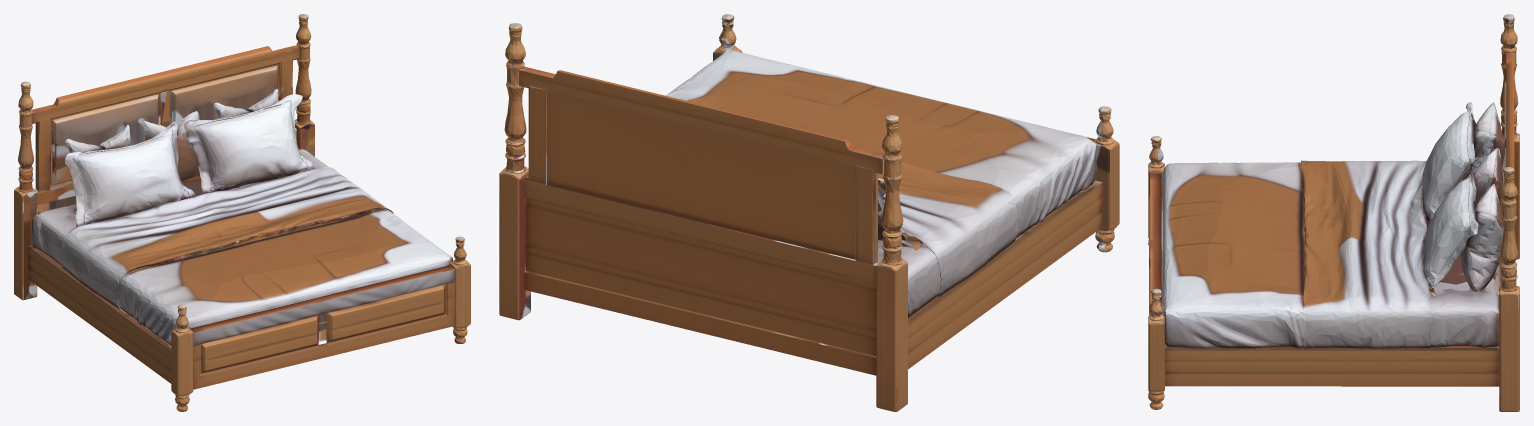
File: edited_mesh.glb
3 views of the same model, side by side, from view 1: azimuth 30°, elevation 25°; view 2: azimuth 150°, elevation 25°; view 3: azimuth 270°, elevation 25° (orthographic). The views are drawn at different scales.
Visible parts, largest first — view 1: solid_001_wire; view 2: solid_001_wire; view 3: solid_001_wire.
Part boxes in pixels (x1,y1,x2,y2): solid_001_wire: (14, 14, 470, 411); solid_001_wire: (499, 14, 1119, 411); solid_001_wire: (1148, 14, 1519, 411).
Bounding box in the file's own units: 1.68 × 1.16 × 1.63.
1 material, 1 textured.
